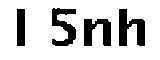5: (45, 3, 77, 51)
h: (117, 6, 148, 49)
l: (10, 5, 33, 48)
n: (80, 14, 113, 51)
